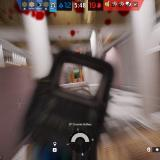Character: (75, 78, 81, 82)
Friend_label: (15, 98, 26, 105)
Head: (78, 78, 80, 80)
